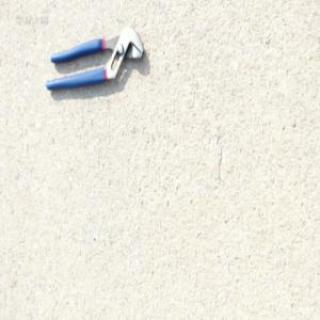Pliertrack_idkeyframe: (44, 24, 144, 92)
